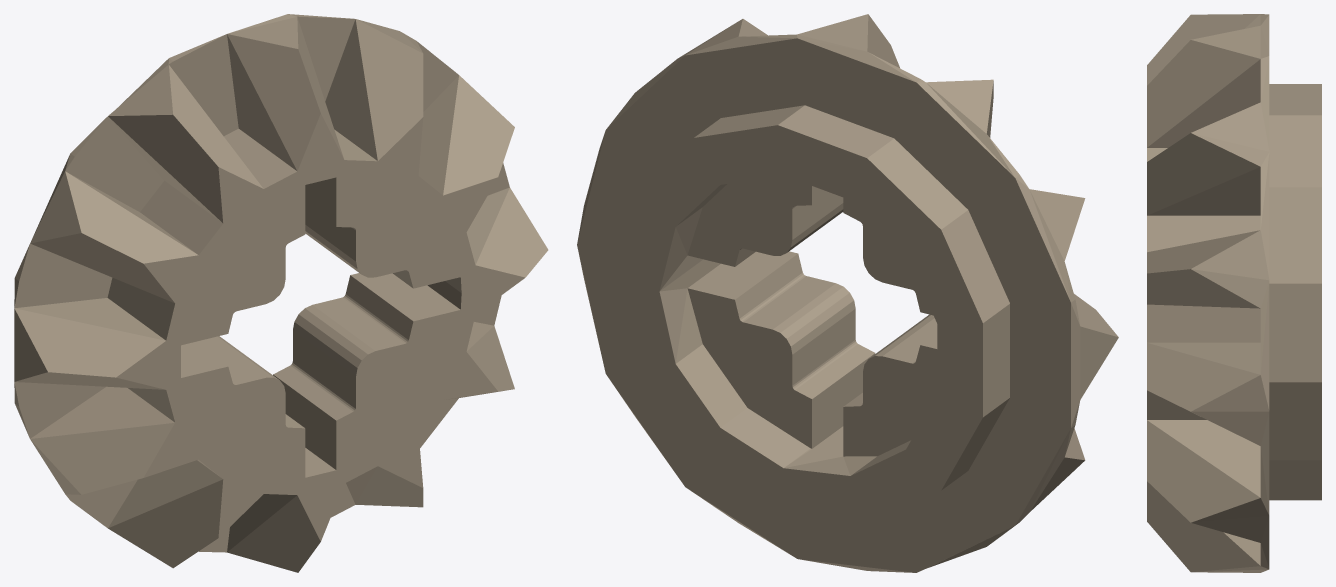
Rendered from Sand_4565452_AVV.fbx.
3 views of the same model, side by side, from view 1: azimuth 30°, elevation 25°; view 2: azimuth 150°, elevation 25°; view 3: azimuth 270°, elevation 25° (orthographic). The views are drawn at different scales.
Parts seen in each view (by area): view 1: Sand_4565452_AVV; view 2: Sand_4565452_AVV; view 3: Sand_4565452_AVV.
Boxes of the visible parts, bbox=[...] form: Sand_4565452_AVV: bbox=[14, 14, 548, 572]; Sand_4565452_AVV: bbox=[577, 14, 1118, 572]; Sand_4565452_AVV: bbox=[1147, 14, 1321, 572].
Size of the model in its own units: 1.28 by 1.28 by 0.4.
